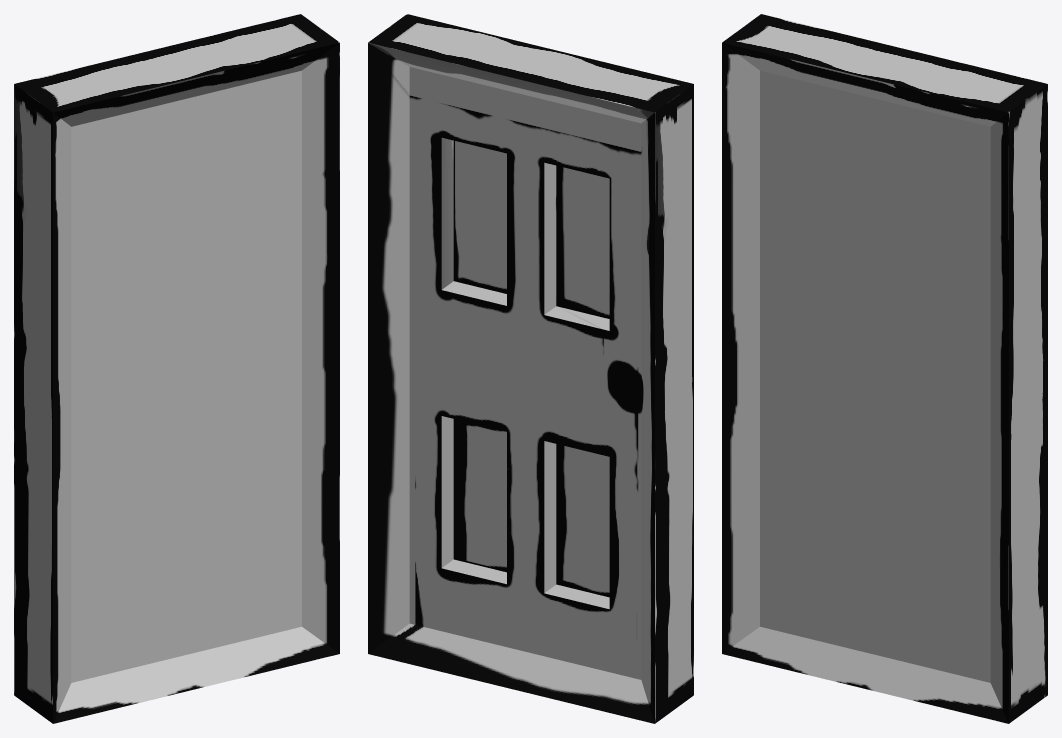
The model's file is bigmode_door.glb.
The picture shows the model from 3 angles, left to right: view 1: azimuth 30°, elevation 25°; view 2: azimuth 150°, elevation 25°; view 3: azimuth 330°, elevation 25°; orthographic projection.
Visible parts, largest first — view 1: door; view 2: door; view 3: door.
Part boxes in pixels (x1,y1,x2,y2): door: (14,14,339,723); door: (368,14,693,723); door: (722,14,1047,723).
Bounding box in the file's own units: 0.7927 × 1.61 × 0.187.
Materials: 1 (1 with a texture image).
